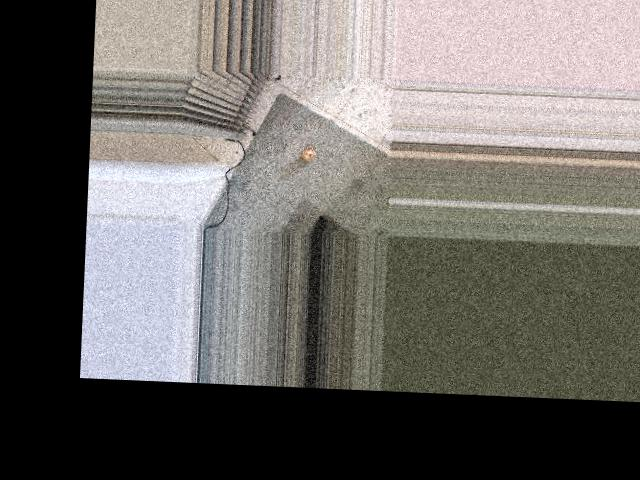onion: (300, 147, 316, 161)
